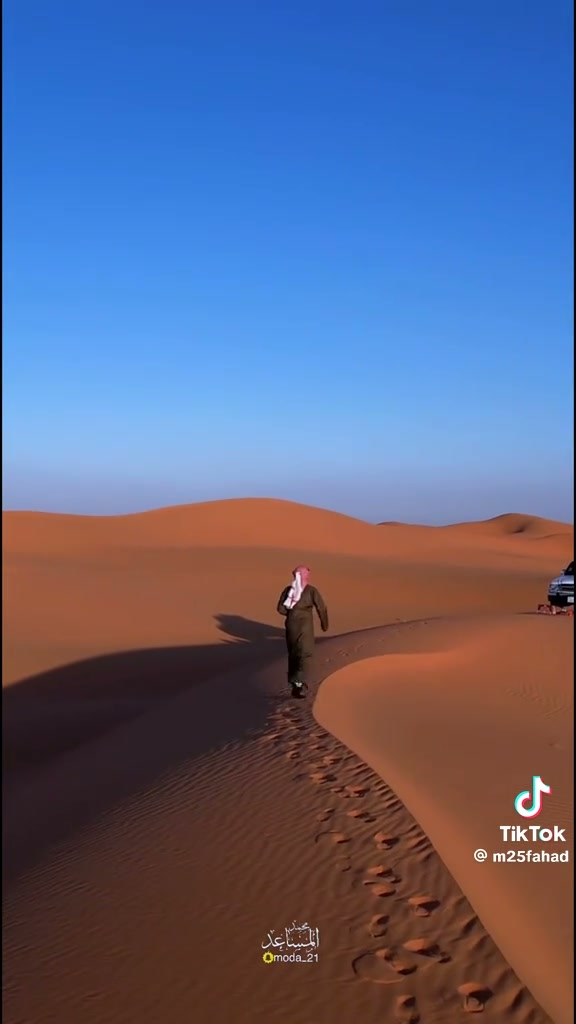human: (277, 566, 328, 697)
human_foot_print: (352, 948, 416, 983), (403, 938, 450, 962), (458, 982, 492, 1012), (364, 864, 400, 885), (394, 994, 419, 1023), (407, 895, 439, 917), (315, 829, 350, 845), (364, 880, 396, 897), (368, 914, 388, 938), (373, 831, 398, 850), (346, 808, 374, 822), (309, 770, 335, 784), (344, 784, 368, 798), (317, 808, 334, 822)
